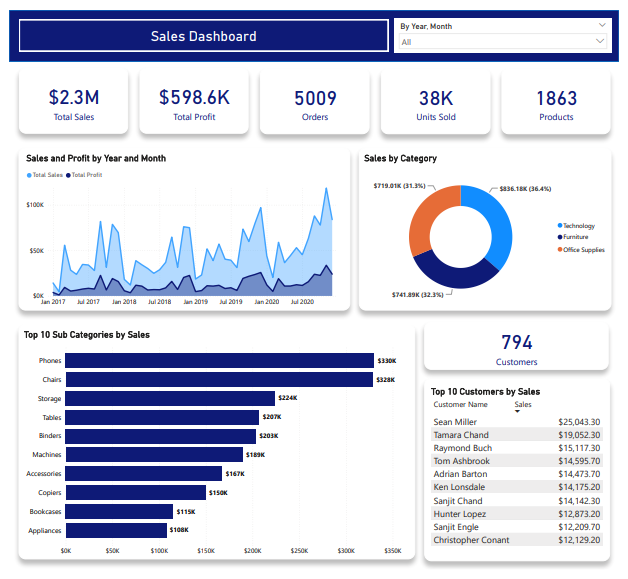

The dashboard page shown, as its layout file describes it:
{"tool":"powerbi","page":{"name":"Page 1","canvas":[1295,1190],"ordinal":0},"visuals":[{"type":"shape","box":[0,0,1294.5,109.1],"z":0},{"type":"actionButton","box":[21.4,19.6,783.9,67.9],"z":1000},{"type":"slicer","fields":{"Values":["PowerBI_SuperstoreSales - with missing data.Order Date.Variation.Date Hierarchy.Year","PowerBI_SuperstoreSales - with missing data.Order Date.Variation.Date Hierarchy.Month"]},"box":[817.9,17.9,462.5,73.2],"z":2000},{"type":"card","fields":{"Values":["PowerBI_SuperstoreSales - with missing data.Sales"]},"box":[21.1,122.4,231.2,139.4],"z":3000},{"type":"card","fields":{"Values":["PowerBI_SuperstoreSales - with missing data.Profit"]},"box":[277,122.4,231.2,139.4],"z":4000},{"type":"card","fields":{"Values":["PowerBI_SuperstoreSales - with missing data.Order ID"]},"box":[532.8,123.2,232.1,139.3],"z":5000},{"type":"card","title":"Orders","fields":{"Values":["PowerBI_SuperstoreSales - with missing data.Product ID"]},"box":[1046.4,123.2,230.4,139.3],"z":6000},{"type":"card","fields":{"Values":["PowerBI_SuperstoreSales - with missing data.Quantity"]},"box":[789.6,123.2,232.1,139.3],"z":7000},{"type":"areaChart","title":"Sales and Profit by Year and Month","fields":{"Y":["PowerBI_SuperstoreSales - with missing data.Sales","PowerBI_SuperstoreSales - with missing data.Profit"],"Category":["PowerBI_SuperstoreSales - with missing data.Order Date.Variation.Date Hierarchy.Year","PowerBI_SuperstoreSales - with missing data.Order Date.Variation.Date Hierarchy.Month"]},"box":[20,291.7,703.6,346.4],"z":8000},{"type":"donutChart","title":"Sales by Category","fields":{"Y":["PowerBI_SuperstoreSales - with missing data.Sales"],"Category":["PowerBI_SuperstoreSales - with missing data.Category"]},"box":[743.1,291.7,535.7,346.4],"z":9000},{"type":"clusteredBarChart","title":"Top 10 Sub Categories by Sales","fields":{"Category":["PowerBI_SuperstoreSales - with missing data.Sub-Category"],"Y":["PowerBI_SuperstoreSales - with missing data.Sales"]},"box":[20,667.3,841.8,500],"z":10000},{"type":"tableEx","title":"Top 10 Customers by Sales","fields":{"Values":["PowerBI_SuperstoreSales - with missing data.Customer Name","PowerBI_SuperstoreSales - with missing data.Sales"]},"box":[881.8,781.8,394.5,389.1],"z":11000},{"type":"card","title":"Orders","fields":{"Values":["PowerBI_SuperstoreSales - with missing data.Customer ID"]},"box":[881.8,661.8,390.9,101.8],"z":12000}]}

Visuals, with their boxes on the page's 1295x1190 design canvas (x1, y1, x2, y2). These are canvas units, not pixel positions in the 628x579 screenshot, which may show the page scaled, cropped or inside an application window:
shape: {"x1": 0, "y1": 0, "x2": 1294, "y2": 109}
actionButton: {"x1": 21, "y1": 20, "x2": 805, "y2": 88}
slicer - PowerBI_SuperstoreSales - with missing data.Order Date.Variation.Date Hierarchy.Year x PowerBI_SuperstoreSales - with missing data.Order Date.Variation.Date Hierarchy.Month: {"x1": 818, "y1": 18, "x2": 1280, "y2": 91}
card - PowerBI_SuperstoreSales - with missing data.Sales: {"x1": 21, "y1": 122, "x2": 252, "y2": 262}
card - PowerBI_SuperstoreSales - with missing data.Profit: {"x1": 277, "y1": 122, "x2": 508, "y2": 262}
card - PowerBI_SuperstoreSales - with missing data.Order ID: {"x1": 533, "y1": 123, "x2": 765, "y2": 262}
"Orders" card: {"x1": 1046, "y1": 123, "x2": 1277, "y2": 262}
card - PowerBI_SuperstoreSales - with missing data.Quantity: {"x1": 790, "y1": 123, "x2": 1022, "y2": 262}
"Sales and Profit by Year and Month" areaChart: {"x1": 20, "y1": 292, "x2": 724, "y2": 638}
"Sales by Category" donutChart: {"x1": 743, "y1": 292, "x2": 1279, "y2": 638}
"Top 10 Sub Categories by Sales" clusteredBarChart: {"x1": 20, "y1": 667, "x2": 862, "y2": 1167}
"Top 10 Customers by Sales" tableEx: {"x1": 882, "y1": 782, "x2": 1276, "y2": 1171}
"Orders" card: {"x1": 882, "y1": 662, "x2": 1273, "y2": 764}
